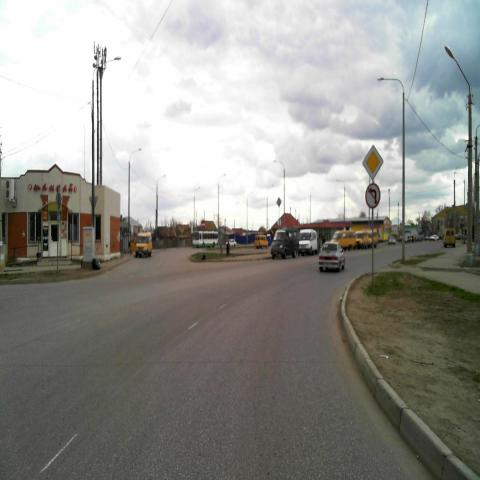2_1: (362, 144, 384, 182)
3_1: (200, 219, 206, 229)
3_18_2: (365, 183, 380, 209)
